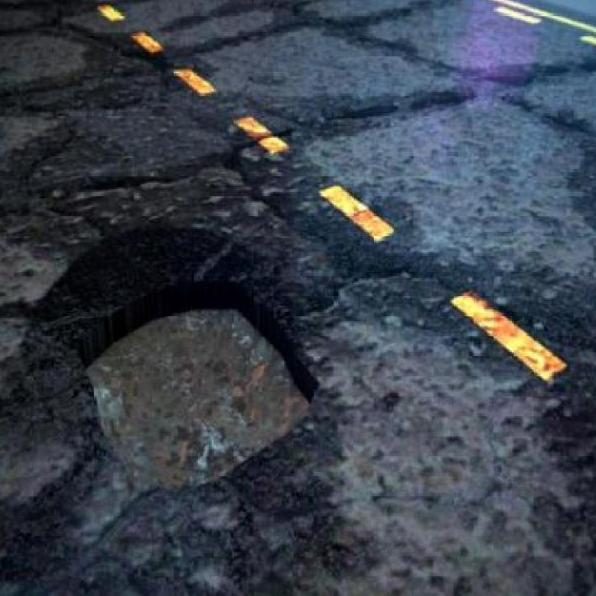pothole: (17, 196, 340, 596)
